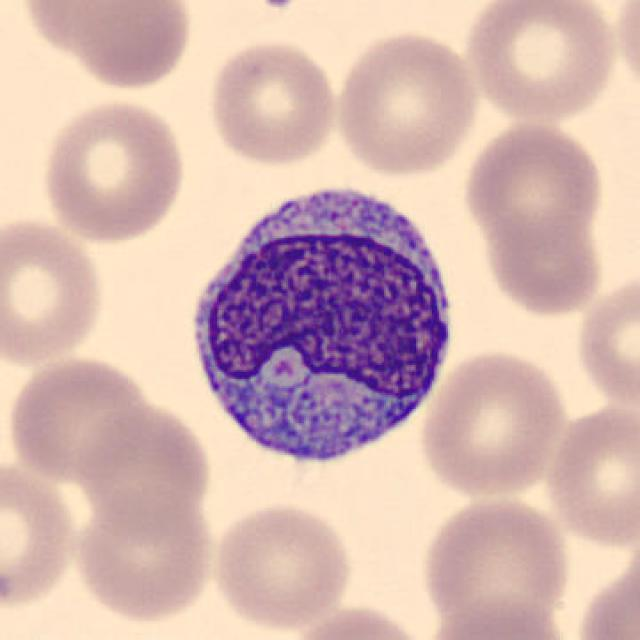Monocyte: (176, 166, 464, 483)
Platelets: (254, 0, 298, 12)
RBC: (414, 346, 571, 500), (416, 492, 576, 635), (331, 27, 482, 178), (38, 95, 190, 245), (70, 485, 220, 626), (458, 0, 620, 125), (4, 353, 158, 483), (208, 499, 357, 633), (71, 398, 215, 536), (459, 117, 608, 250), (205, 37, 342, 168), (0, 213, 108, 368), (540, 398, 640, 552), (32, 0, 197, 92), (476, 208, 608, 319), (0, 455, 80, 612), (572, 266, 638, 416), (417, 597, 579, 640), (281, 601, 434, 640), (610, 0, 640, 104)
